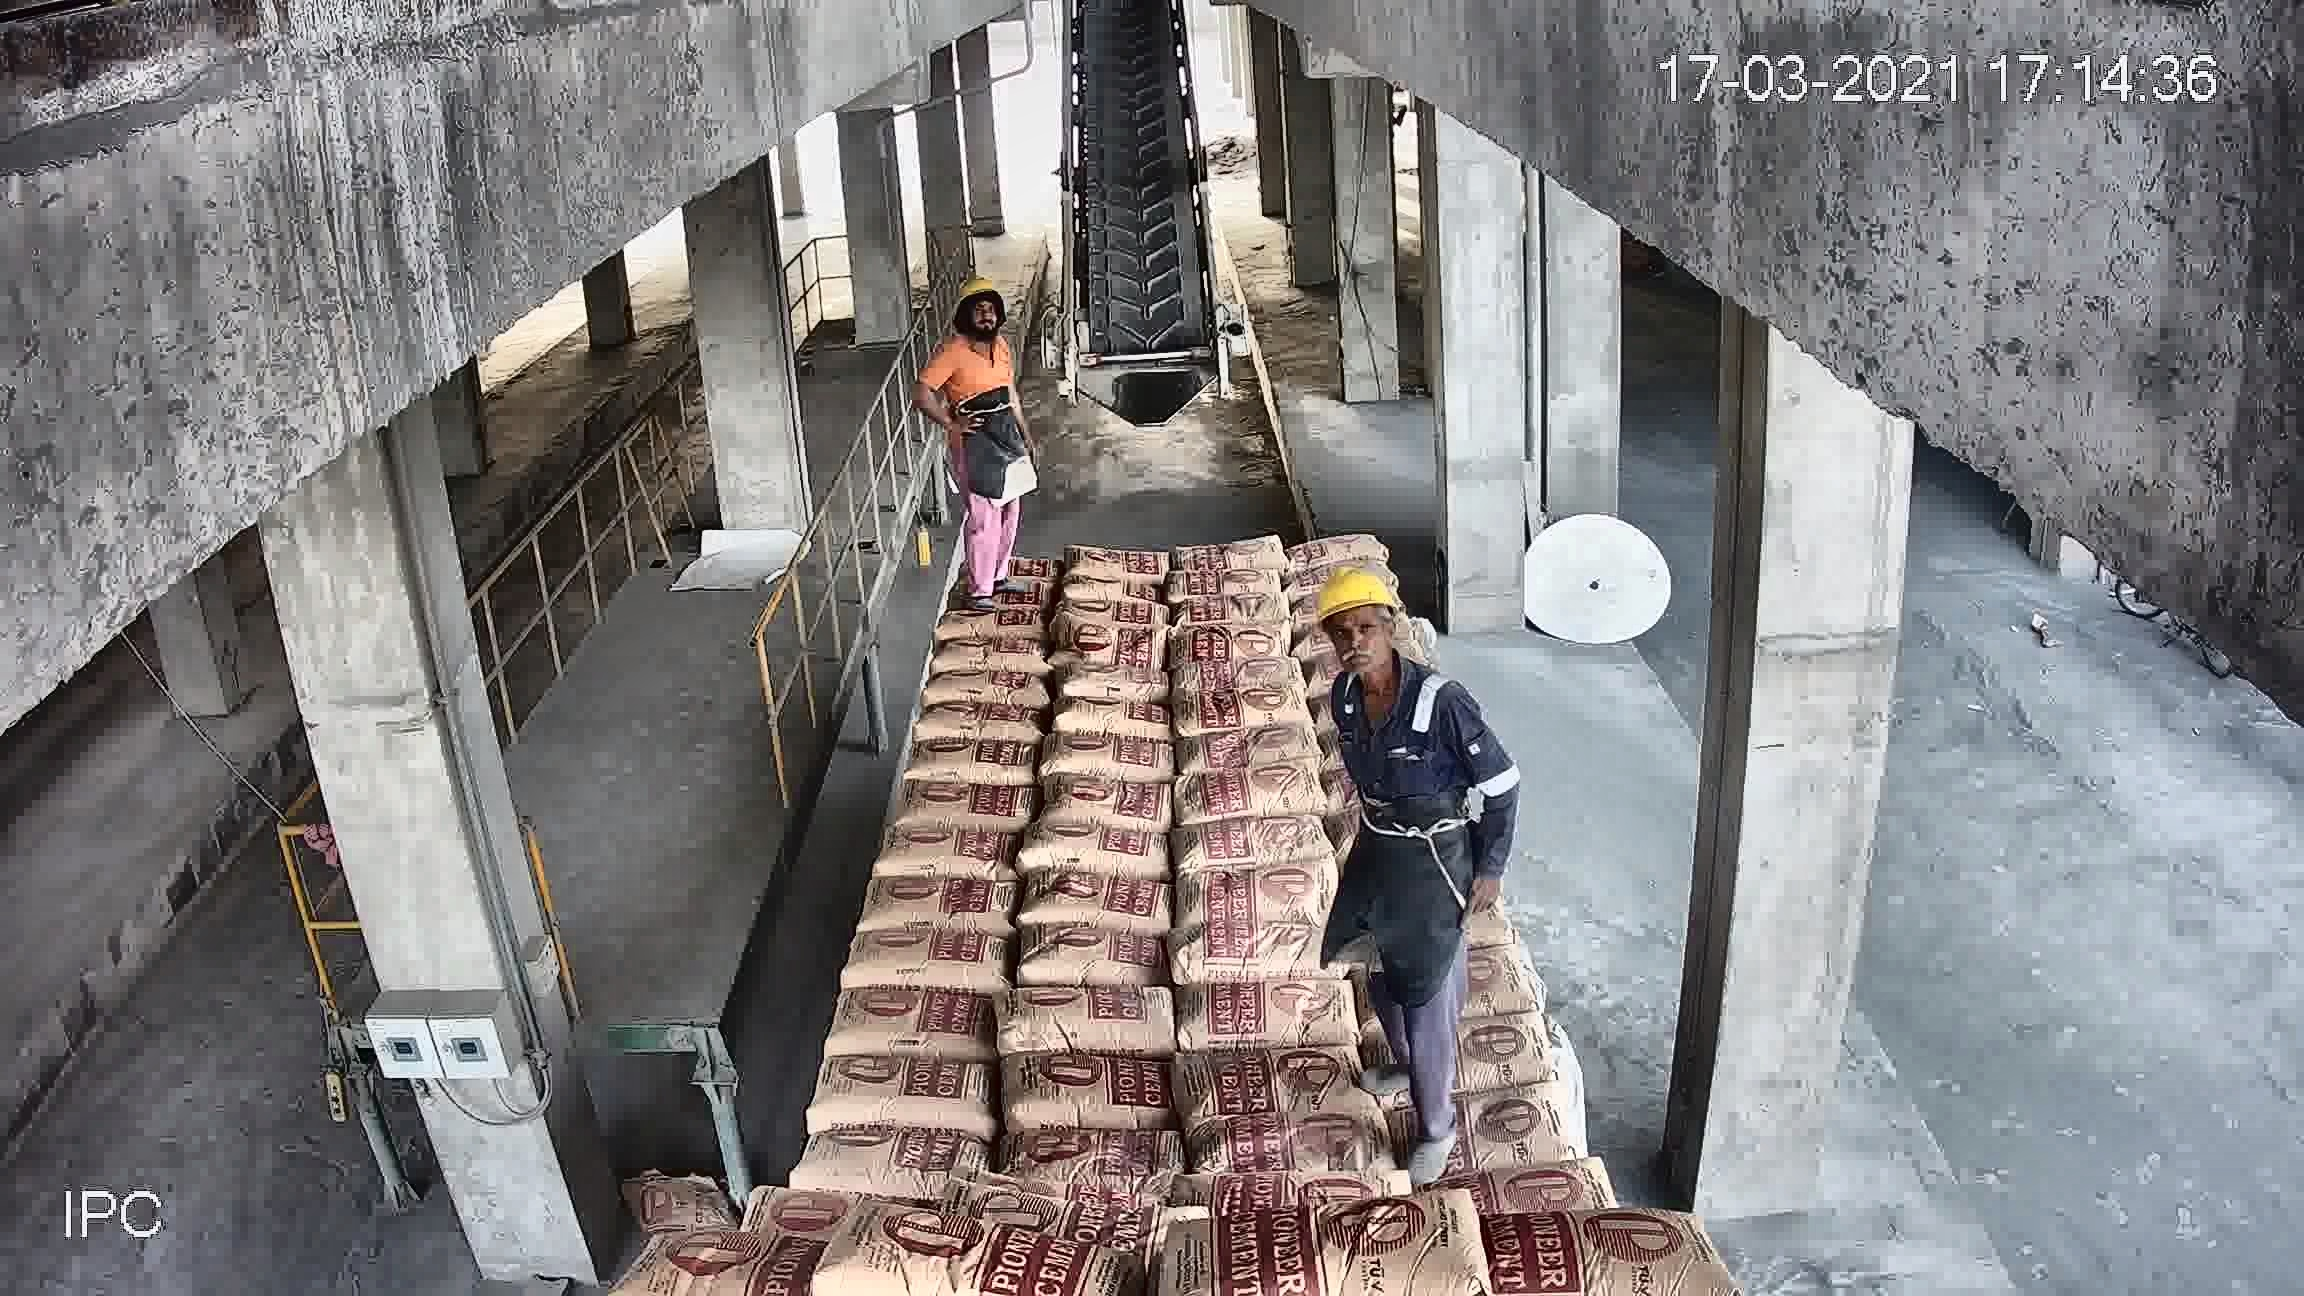bag_h: (1161, 1195, 1484, 1290), (805, 1218, 1120, 1296), (1184, 1059, 1393, 1149), (1491, 1214, 1733, 1285), (1187, 1098, 1385, 1182), (805, 1055, 1006, 1135), (1391, 1089, 1576, 1169), (1005, 1059, 1185, 1139), (631, 1226, 840, 1296), (999, 987, 1185, 1063), (829, 978, 1006, 1057), (786, 1128, 999, 1192), (1180, 980, 1364, 1052), (1158, 923, 1345, 992), (1173, 859, 1340, 935), (997, 1119, 1188, 1185), (858, 875, 1024, 946), (837, 927, 1013, 994), (1182, 758, 1332, 826), (1025, 817, 1168, 885), (1017, 932, 1177, 991), (1445, 1013, 1552, 1095), (1044, 772, 1184, 836), (1180, 813, 1320, 873), (1029, 873, 1177, 929), (892, 783, 1040, 839), (870, 831, 1017, 883), (907, 736, 1041, 790), (1176, 687, 1320, 734), (1180, 722, 1320, 771), (1171, 650, 1309, 699), (1063, 609, 1169, 673), (913, 701, 1054, 748), (907, 663, 1041, 707), (1048, 741, 1176, 786), (1062, 658, 1173, 707), (1171, 619, 1290, 661), (1052, 699, 1161, 745), (929, 638, 1059, 674), (1180, 540, 1298, 579), (1301, 551, 1402, 593), (1171, 565, 1290, 601), (1065, 541, 1169, 582), (1173, 592, 1291, 627), (1059, 597, 1176, 631), (1299, 521, 1408, 555), (1054, 574, 1165, 608), (929, 601, 1048, 631)
belt: (1055, 13, 1223, 400)
